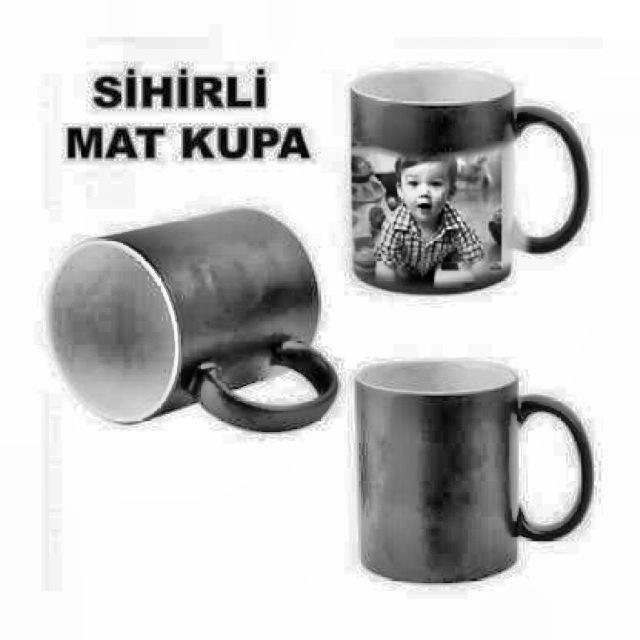Mug: (44, 197, 341, 443), (353, 357, 595, 592), (348, 68, 590, 298)
